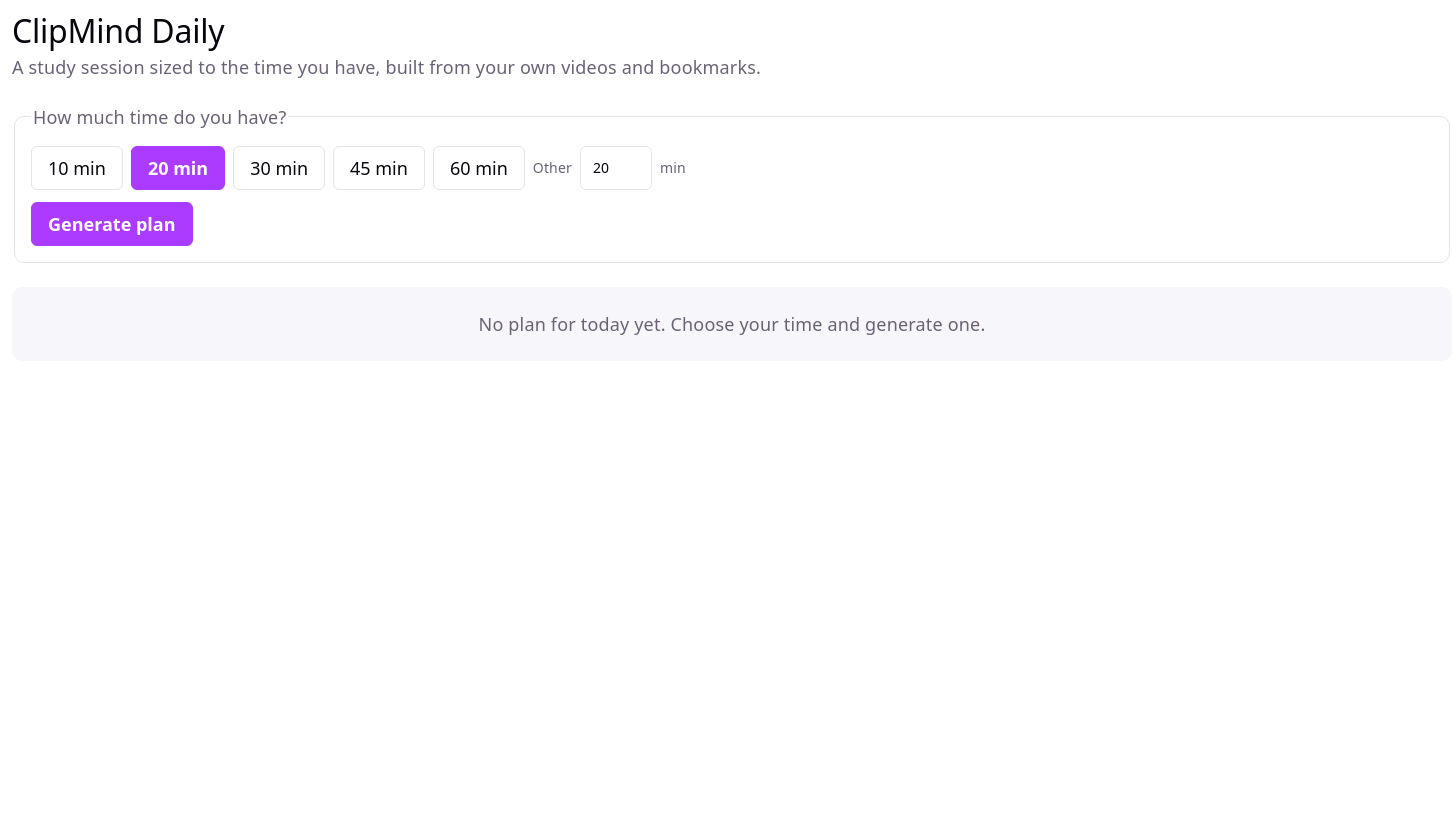
Test case: ClipMind Daily › generates a plan for the chosen minutes and today's local date
The width and height of the screenshot is (1452, 822).
Click the button "30 min" at (279, 168), box 233,146 -> 325,190
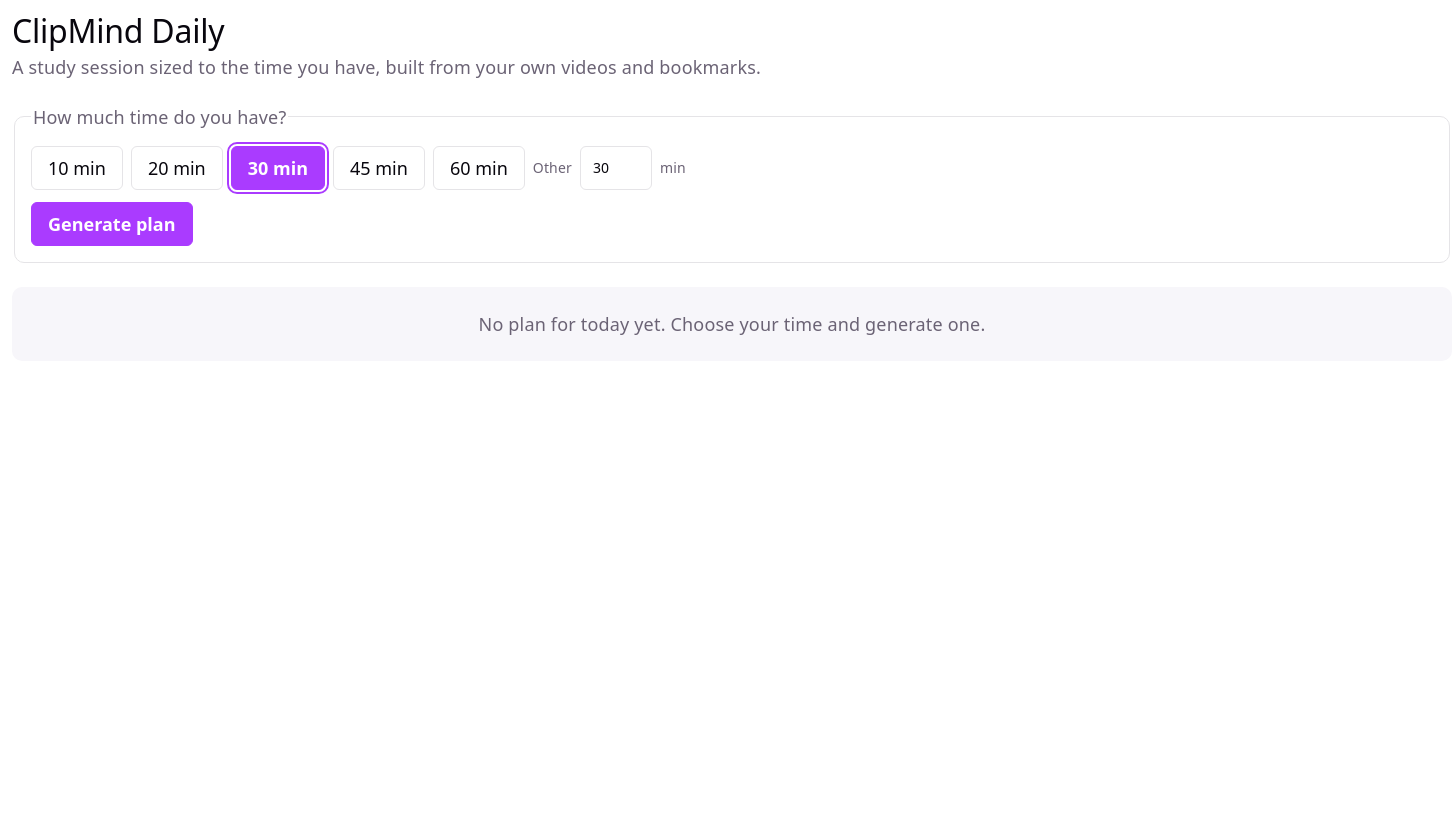
Click the button "Generate plan" at (112, 224), box 31,202 -> 192,246
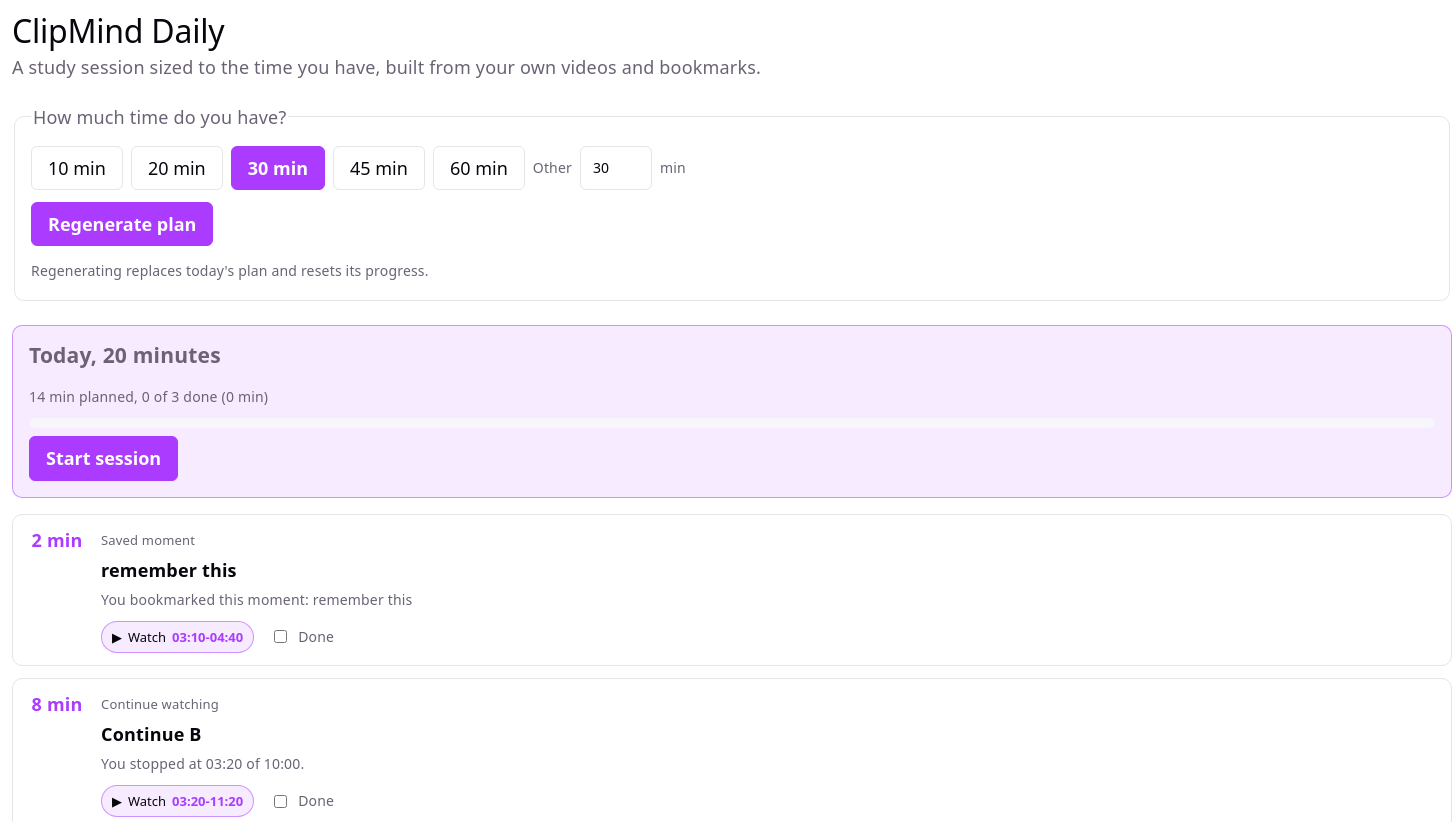
Expected: the text "Continue B" is shown, 101,722 -> 202,746
Expected: the text "You stopped at 03:20 of 10:00." is shown, 101,754 -> 304,773
